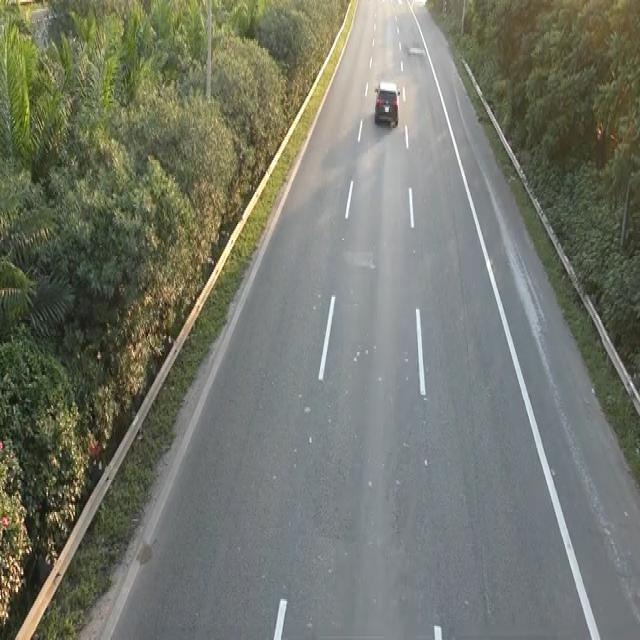car: (373, 76, 401, 128)
